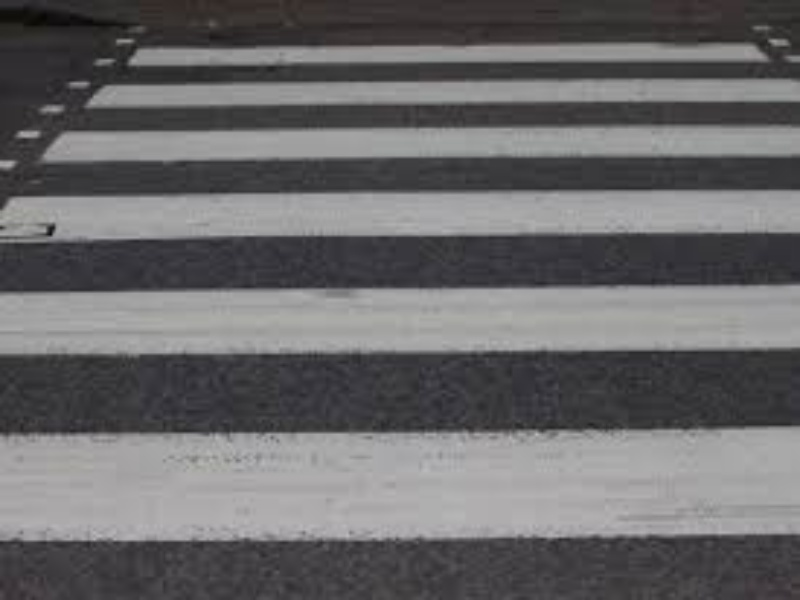zebra cross: (1, 41, 797, 537)
